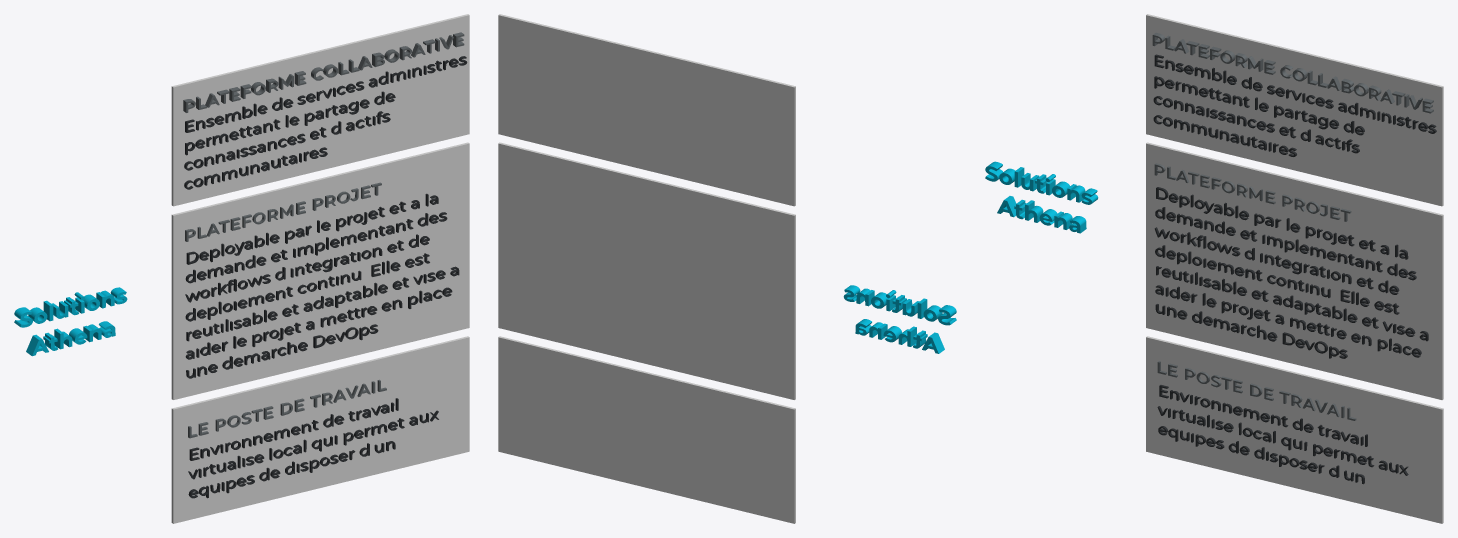
Rendered from tinker.obj.
The picture shows the model from 3 angles, left to right: view 1: azimuth 30°, elevation 25°; view 2: azimuth 150°, elevation 25°; view 3: azimuth 330°, elevation 25°; orthographic projection.
Visible parts, largest first — view 1: group_0_16448250, group_0_2829873, group_0_6383466, group_0_48093; view 2: group_0_16448250, group_0_48093; view 3: group_0_16448250, group_0_2829873, group_0_6383466, group_0_48093.
Part boxes in pixels (bbox=[...]): group_0_16448250: bbox=[171, 14, 469, 523]; group_0_2829873: bbox=[184, 56, 467, 498]; group_0_6383466: bbox=[183, 32, 464, 438]; group_0_48093: bbox=[14, 287, 127, 356]; group_0_16448250: bbox=[498, 14, 795, 523]; group_0_48093: bbox=[843, 285, 956, 353]; group_0_16448250: bbox=[1146, 14, 1443, 523]; group_0_2829873: bbox=[1153, 54, 1436, 484]; group_0_6383466: bbox=[1152, 32, 1433, 420]; group_0_48093: bbox=[985, 161, 1098, 233].
Bounding box in the file's own units: 171 × 157 × 4.
